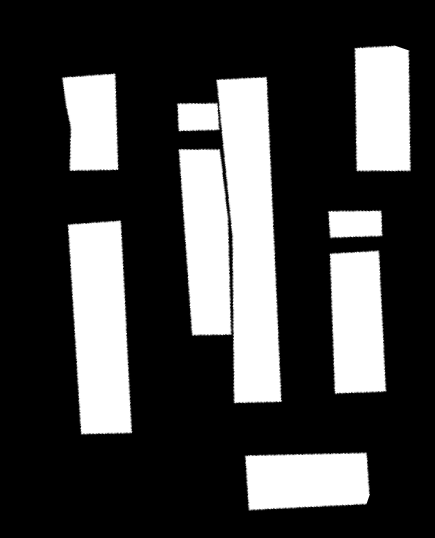parkingspot: (216, 77, 282, 403), (68, 220, 132, 434), (179, 149, 232, 336), (330, 250, 386, 394), (245, 453, 370, 510), (355, 45, 411, 171), (62, 73, 118, 171), (328, 210, 383, 238), (177, 103, 220, 131)
